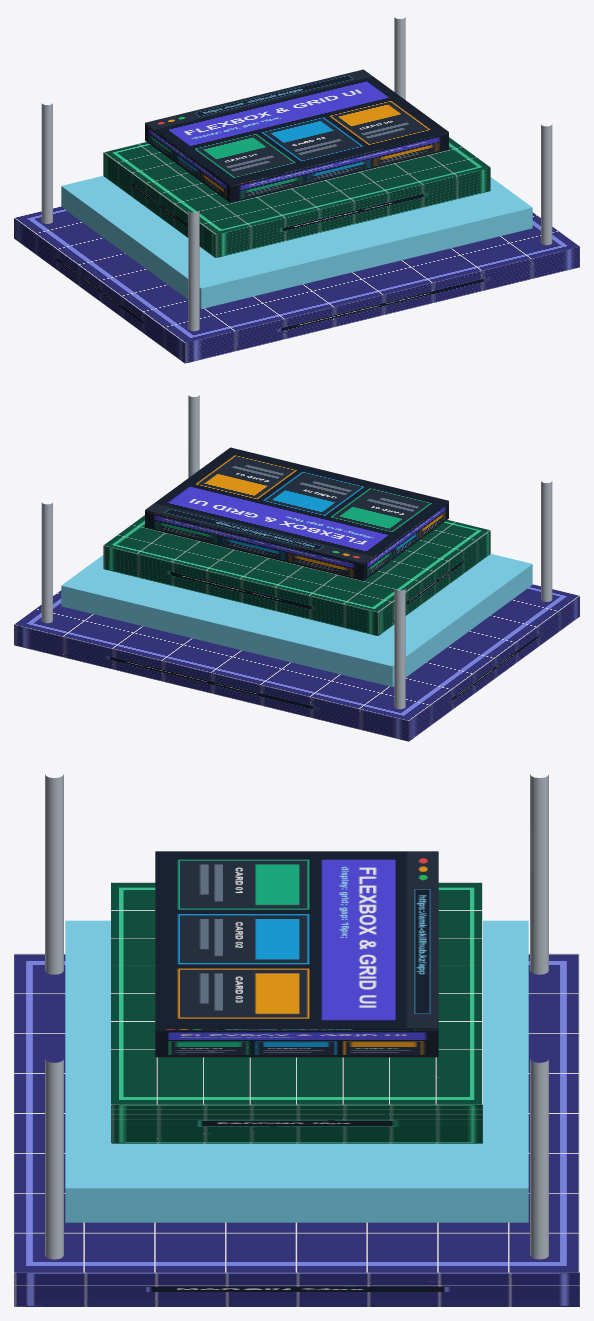
The picture shows the model from 3 angles, top to bottom: view 1: azimuth 30°, elevation 25°; view 2: azimuth 150°, elevation 25°; view 3: azimuth 270°, elevation 25°; orthographic projection. The views are drawn at different scales.
Parts seen in each view (by area): view 1: Margin_Base, UI_Screen, Border_Ring, Padding_Layer, Pillar_1, Pillar_2, Pillar_3, Pillar_4; view 2: Margin_Base, UI_Screen, Border_Ring, Padding_Layer, Pillar_3, Pillar_4, Pillar_1, Pillar_2; view 3: Margin_Base, UI_Screen, Border_Ring, Padding_Layer, Pillar_2, Pillar_4, Pillar_1, Pillar_3.
Boxes of the visible parts, x1,y1,x2,y2 form: Margin_Base: (14,206,579,363); UI_Screen: (145,69,448,202); Border_Ring: (61,176,532,308); Padding_Layer: (103,137,490,257); Pillar_1: (188,210,199,331); Pillar_2: (541,124,552,245); Pillar_3: (41,103,52,223); Pillar_4: (394,17,405,99); Margin_Base: (14,584,579,741); UI_Screen: (145,447,448,580); Border_Ring: (61,554,532,686); Padding_Layer: (103,515,490,635); Pillar_3: (394,588,405,709); Pillar_4: (41,502,52,623); Pillar_1: (541,481,552,601); Pillar_2: (188,395,199,477); Margin_Base: (14,953,579,1306); UI_Screen: (155,851,438,1057); Border_Ring: (65,920,528,1222); Padding_Layer: (111,882,482,1143); Pillar_2: (45,1059,63,1259); Pillar_4: (530,1059,548,1259); Pillar_1: (45,774,63,974); Pillar_3: (530,774,548,974).
Bounding box in the file's own units: 2.8 × 0.95 × 2.1.
Materials: 8 (3 with a texture image).
